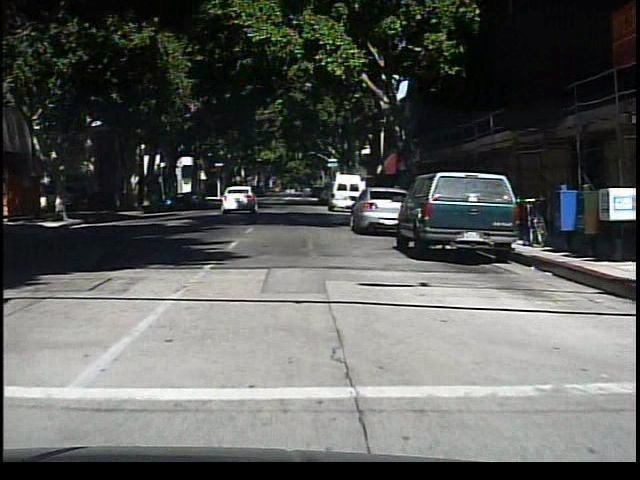person: (52, 178, 70, 221), (294, 178, 313, 206)
